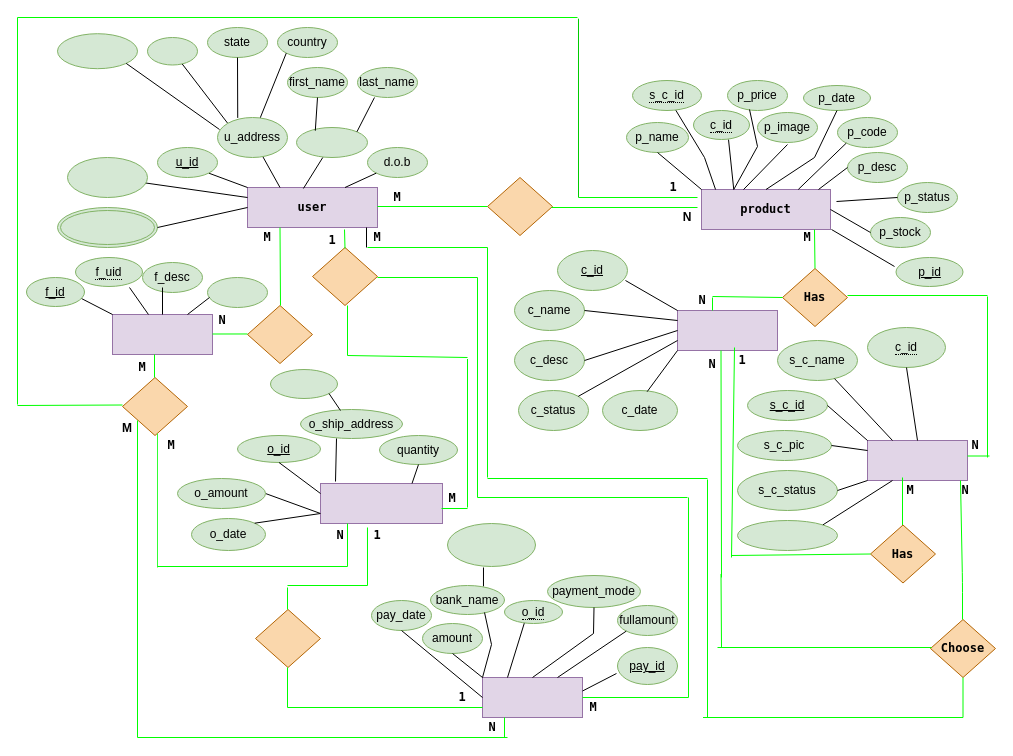
Image size: 1013x756. Some labels were removed from this diagram. Each missing label, with the box of its shape:
bank_account no: (446, 522, 536, 566)
Buy's: (486, 176, 552, 236)
category: (676, 310, 778, 350)
city: (146, 36, 198, 65)
Done for: (254, 608, 320, 668)
f_date: (206, 276, 268, 308)
feedback: (112, 314, 212, 354)
Gives: (246, 304, 312, 364)
Makes: (312, 246, 378, 306)
o_zipcode: (270, 368, 338, 398)
Of: (122, 376, 188, 436)
order: (320, 482, 442, 524)
payment: (482, 676, 582, 718)
pincode: (56, 33, 138, 69)
s_c_desc: (736, 520, 838, 550)
sub_category: (866, 440, 968, 480)
u_contactno.: (56, 206, 158, 248)
u_email: (66, 156, 148, 198)
u_name: (296, 126, 368, 158)
